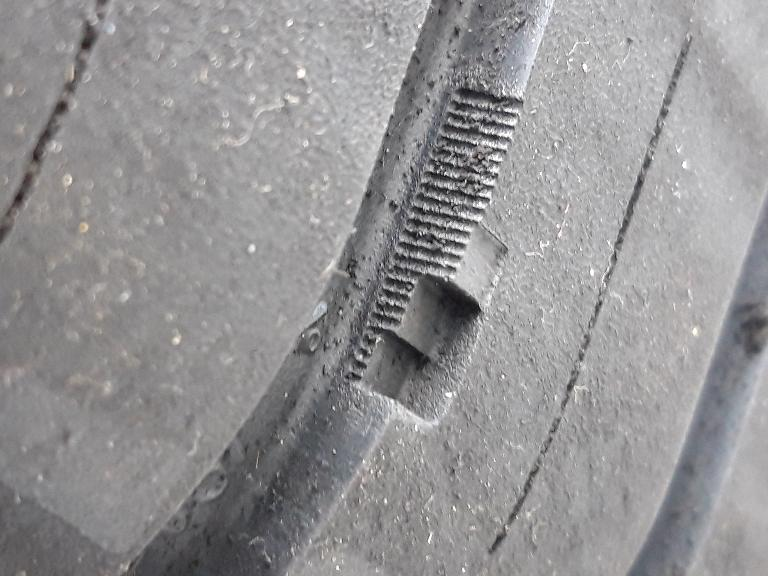temoin:50: (334, 194, 520, 437)
